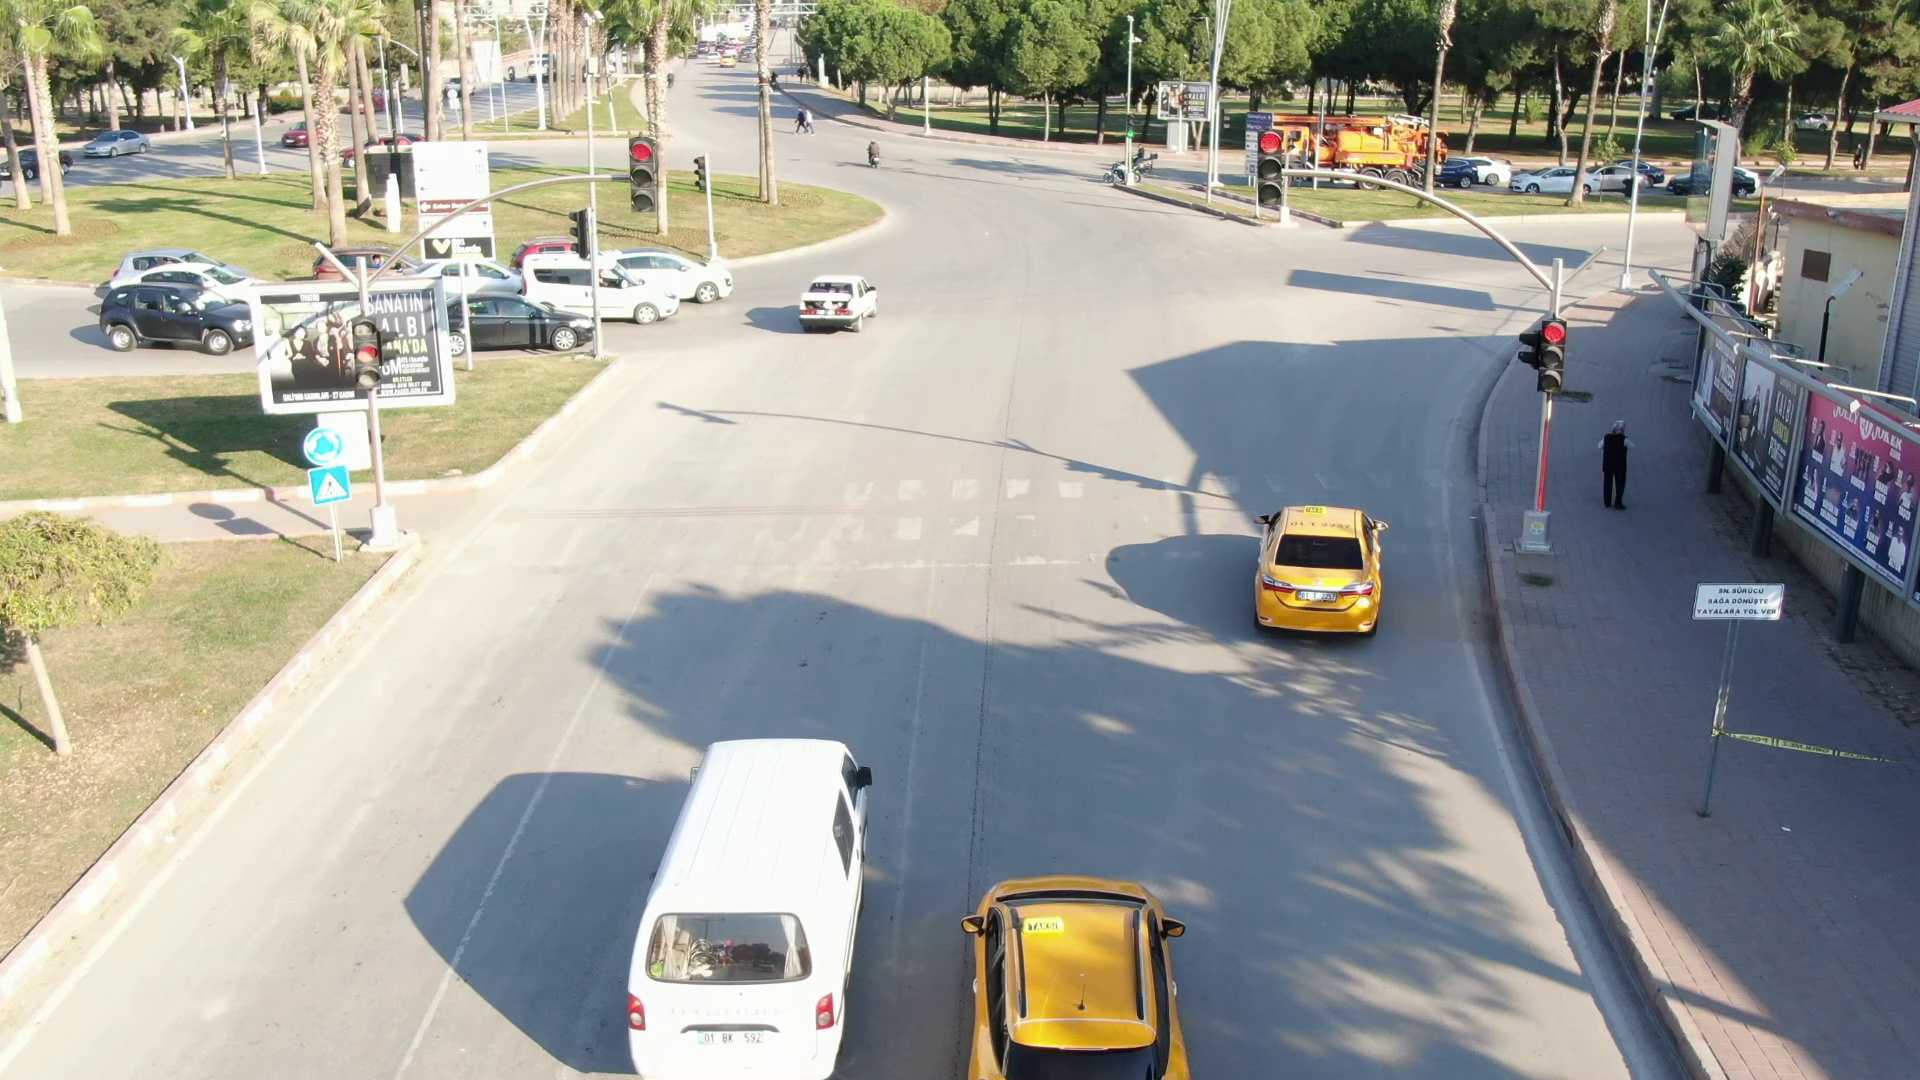car: (614, 741, 882, 1072), (956, 868, 1192, 1080), (1245, 502, 1402, 643), (515, 249, 682, 319), (98, 282, 257, 355), (445, 290, 604, 353), (610, 241, 745, 300), (794, 270, 886, 333)
person: (1594, 417, 1643, 517), (851, 131, 884, 168), (786, 110, 821, 137)
